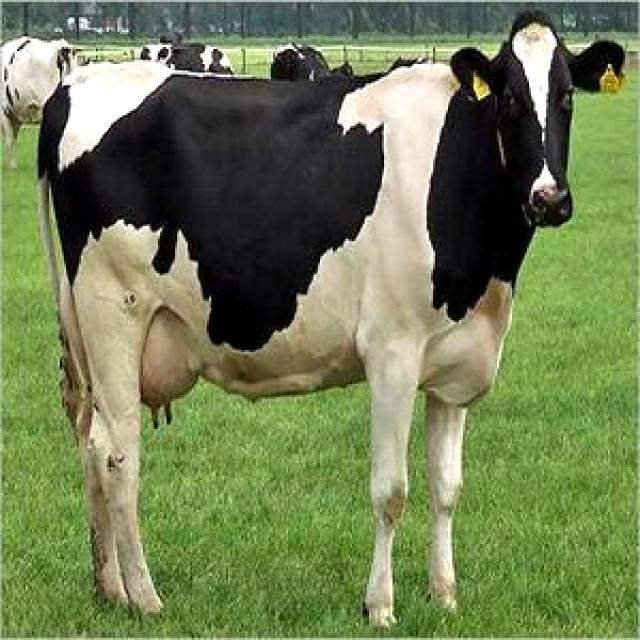COW: (39, 14, 624, 624)
